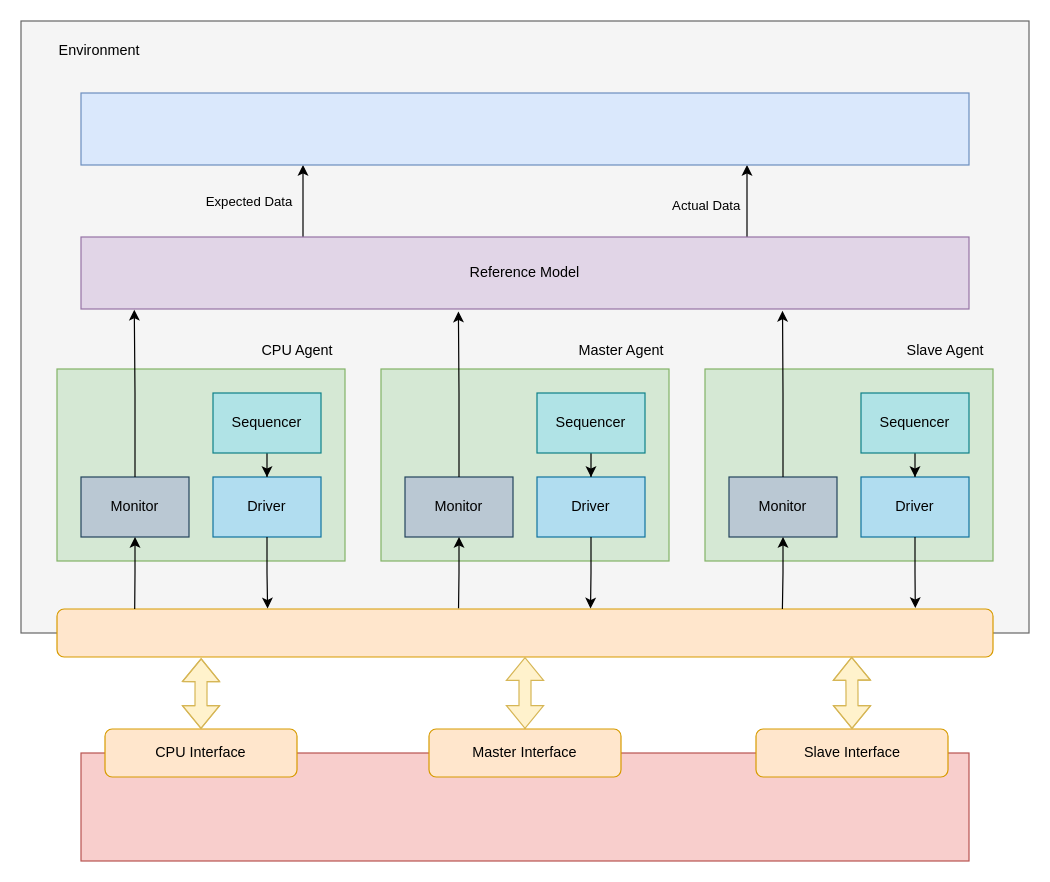
Some shapes in this 1050 by 882 pixel diagram are drawn without their labels. The shapes that lost their labels are listed below. From the top down, each one's box as (x1, y1, x2, y2) in pixels, then its label:
(80, 92, 969, 165): Scoreboard
(56, 608, 993, 657): DUT Interface
(80, 752, 969, 861): DUT
